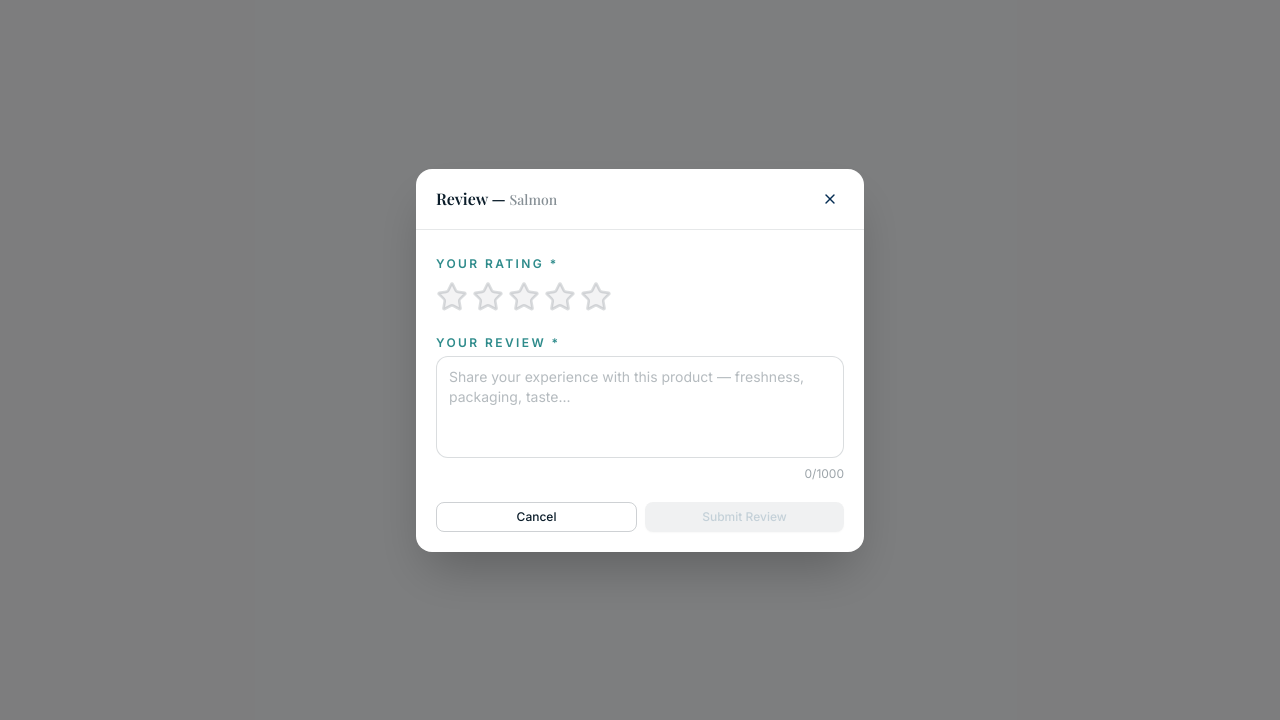
it: WriteReviewModal › shows the review form when eligible, disabling submit until rating + 10-char comment
Expected: the button "Submit Review" is disabled, x1=645 y1=502 x2=844 y2=532
Click the button named "Rate 5 stars" at (596, 296), box x1=580 y1=280 x2=612 y2=312
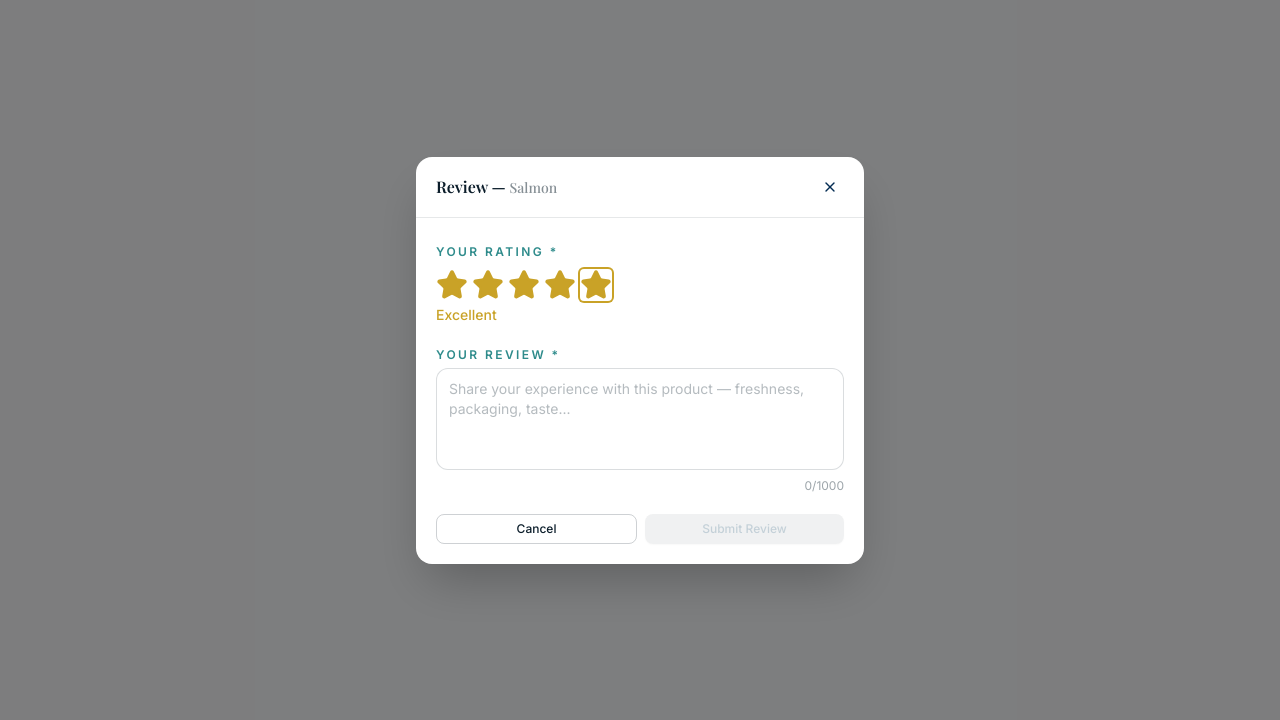
Expected: the button "Submit Review" is disabled, x1=645 y1=514 x2=844 y2=544
Type "Absolutely fantastic quality!" into the text box with placeholder "Share your experience" at (640, 418), box x1=436 y1=368 x2=844 y2=470
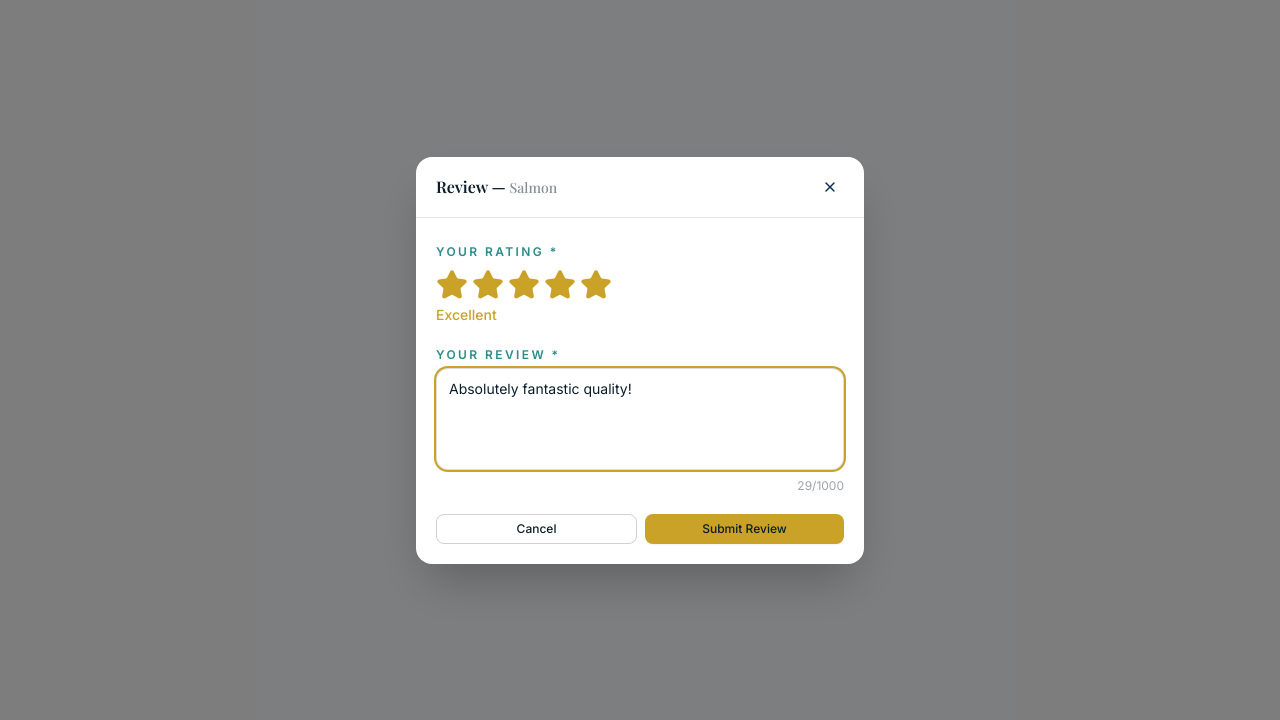
Result: the button "Submit Review" is enabled at x1=645 y1=514 x2=844 y2=544
